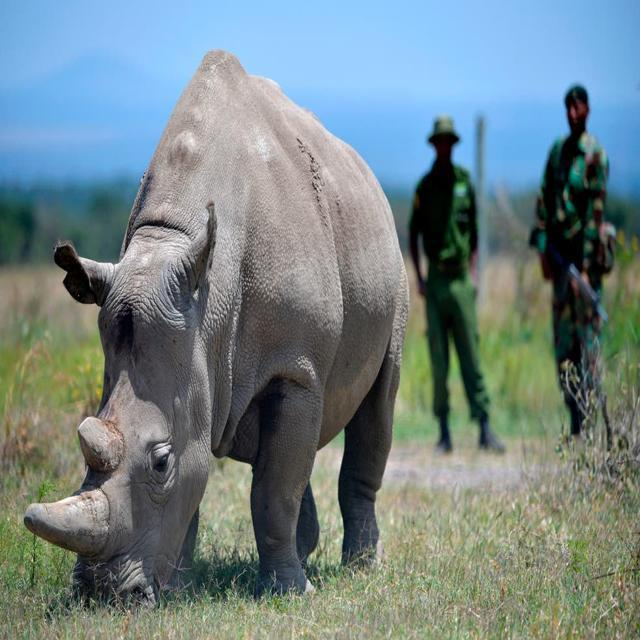Rinoceros: (19, 30, 419, 605)
